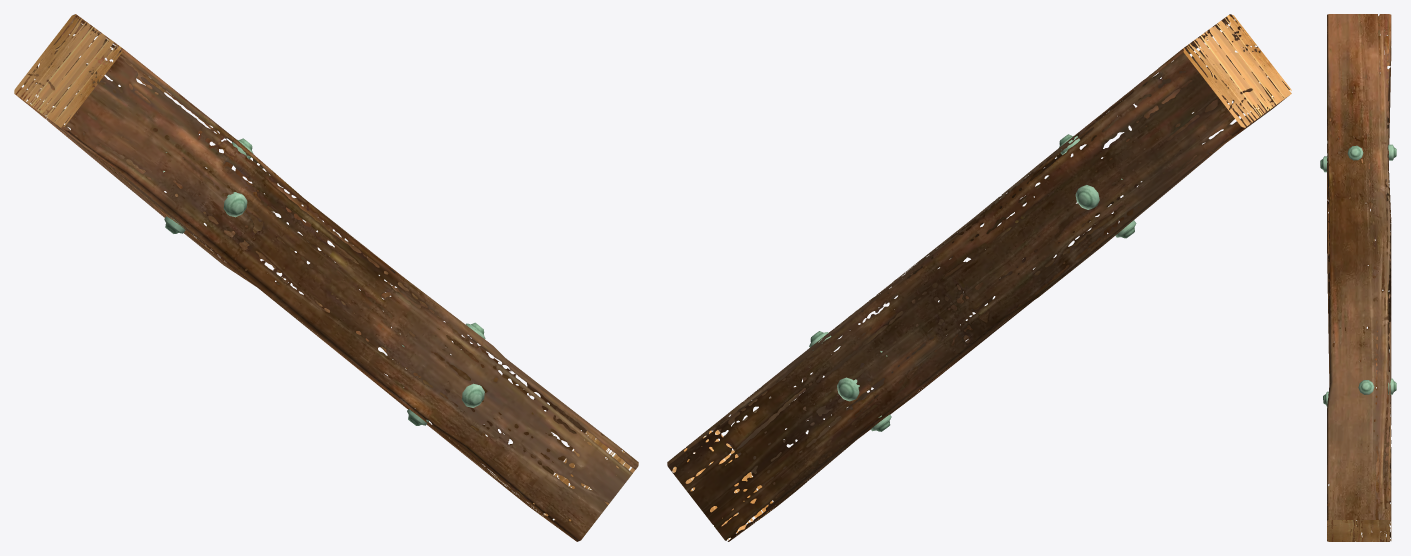
The picture shows the model from 3 angles, left to right: view 1: azimuth 30°, elevation 25°; view 2: azimuth 150°, elevation 25°; view 3: azimuth 270°, elevation 25°; orthographic projection. The views are drawn at different scales.
Parts seen in each view (by area): view 1: SM_BB_T4_Beam_Thin_Med_Diagonal_LOD0; view 2: SM_BB_T4_Beam_Thin_Med_Diagonal_LOD0; view 3: SM_BB_T4_Beam_Thin_Med_Diagonal_LOD0.
Boxes of the visible parts, x1,y1,x2,y2 form: SM_BB_T4_Beam_Thin_Med_Diagonal_LOD0: (14, 14, 638, 541); SM_BB_T4_Beam_Thin_Med_Diagonal_LOD0: (667, 14, 1291, 541); SM_BB_T4_Beam_Thin_Med_Diagonal_LOD0: (1320, 14, 1396, 541).
Size of the model in its own units: 1.68 by 1.68 by 0.3016.
Materials: 2 (2 with a texture image).
